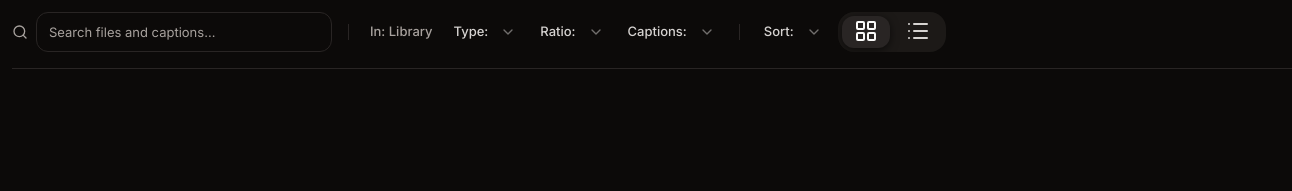
Test case: MediaToolbar (PB-10/11) › a dropdown option applies on selection and the menu closes
Step 1. Click the button with test id "media-type-select" → (485, 32), box [446,12,524,52]
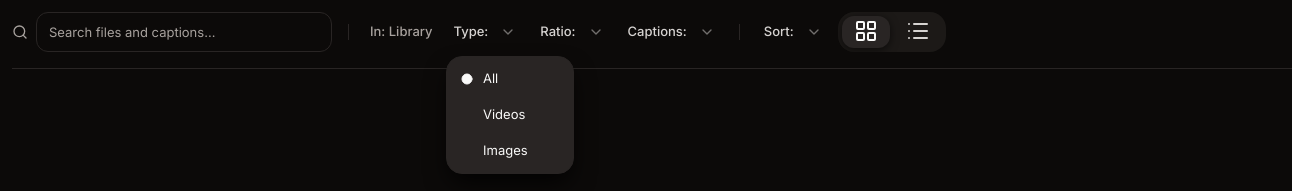
Now the menu is shown, box [446,56,574,174]
Step 2. Click the menu item "Videos" → (504, 114), box [483,106,525,122]
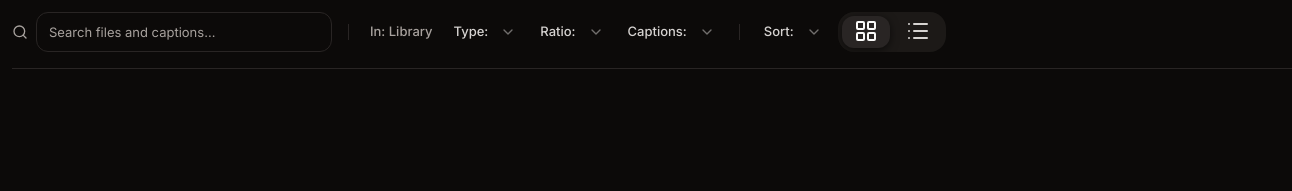
Now the menu is gone
